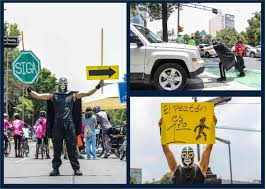mask: (178, 137, 199, 169), (55, 72, 73, 94), (206, 33, 216, 47)
